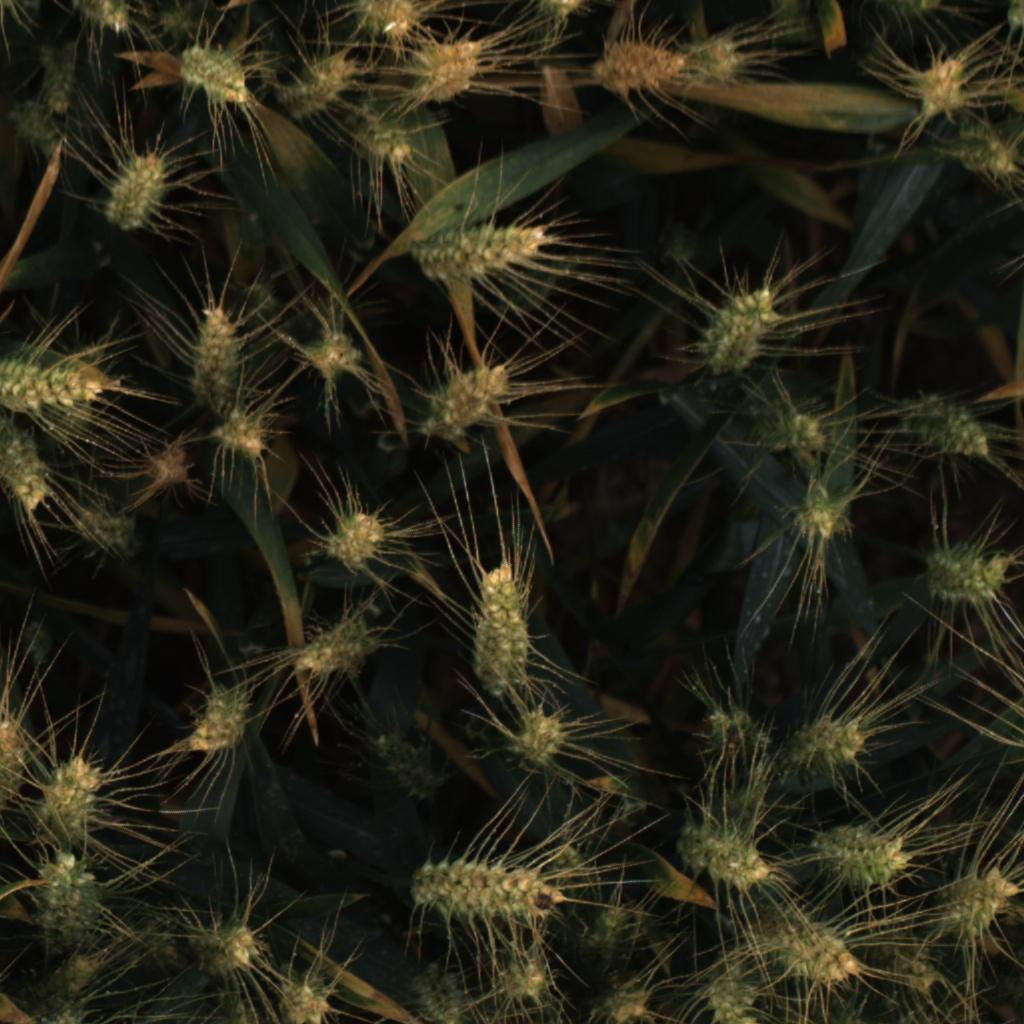0-0: (404, 847, 567, 928), (464, 548, 544, 705), (413, 210, 555, 287), (693, 273, 785, 387), (674, 813, 781, 895), (425, 350, 517, 445), (919, 535, 1024, 613), (780, 702, 877, 785), (895, 388, 998, 466), (0, 343, 108, 417), (763, 924, 880, 990), (179, 293, 250, 401), (408, 30, 496, 117), (32, 843, 112, 937), (360, 722, 454, 802), (811, 820, 912, 894), (40, 750, 120, 843), (587, 33, 691, 103), (317, 495, 403, 579), (932, 862, 1020, 944), (280, 37, 359, 128), (744, 392, 845, 463), (168, 32, 257, 112), (97, 145, 176, 235), (279, 619, 385, 685), (182, 676, 254, 768), (771, 474, 858, 549), (948, 113, 1024, 196), (680, 24, 757, 98), (344, 100, 418, 175), (871, 921, 944, 994), (188, 907, 263, 978), (908, 44, 976, 120), (294, 318, 369, 386), (702, 698, 778, 765), (38, 944, 117, 1008), (404, 957, 479, 1024), (0, 424, 51, 521), (708, 757, 777, 826), (504, 706, 575, 773), (743, 903, 816, 968), (210, 403, 277, 472), (64, 499, 144, 556), (4, 96, 71, 164), (344, 0, 438, 48), (575, 899, 639, 969), (493, 940, 560, 1006), (26, 37, 85, 110), (589, 965, 660, 1024), (134, 434, 195, 499), (281, 962, 340, 1024), (702, 969, 767, 1024), (0, 708, 34, 812), (61, 0, 136, 40), (823, 0, 947, 24), (151, 0, 217, 43), (206, 983, 275, 1024), (515, 0, 592, 30), (23, 1000, 99, 1024), (998, 63, 1024, 120), (997, 0, 1024, 49), (0, 0, 33, 21)
